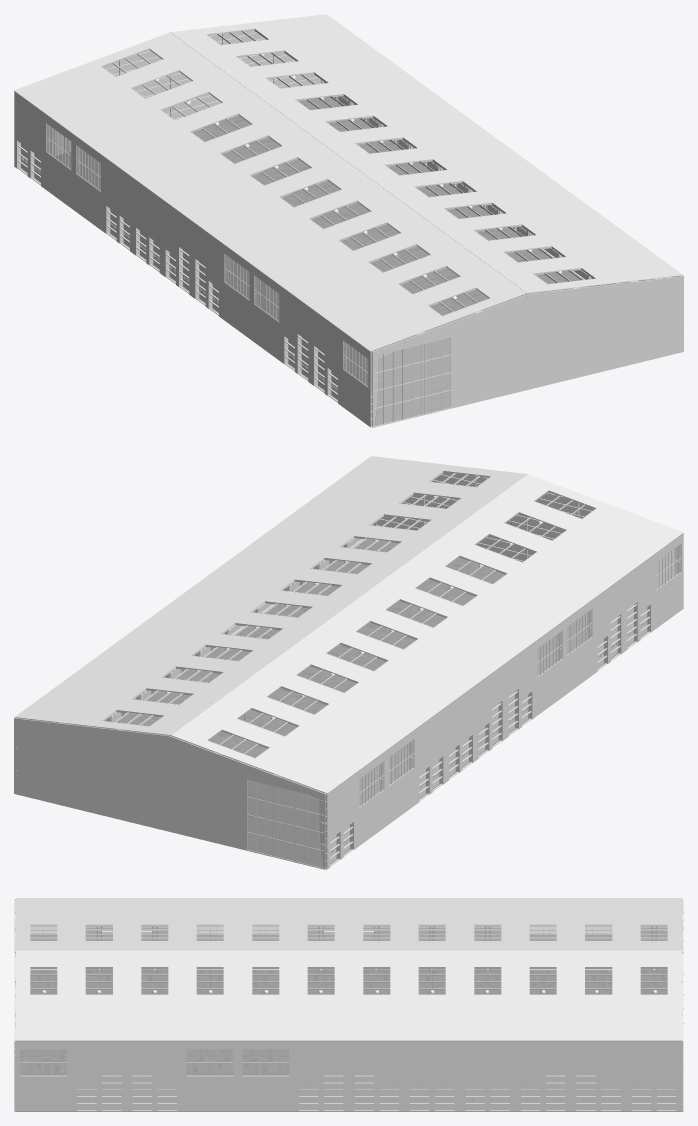
File: simple_factory_scene.glb
3 views of the same model, one above another, from view 1: azimuth 30°, elevation 25°; view 2: azimuth 150°, elevation 25°; view 3: azimuth 270°, elevation 25° (orthographic). The views are drawn at different scales.
Size of the model in its own units: 48.66 by 14.31 by 96.6.
Materials: 8 (1 with a texture image).
